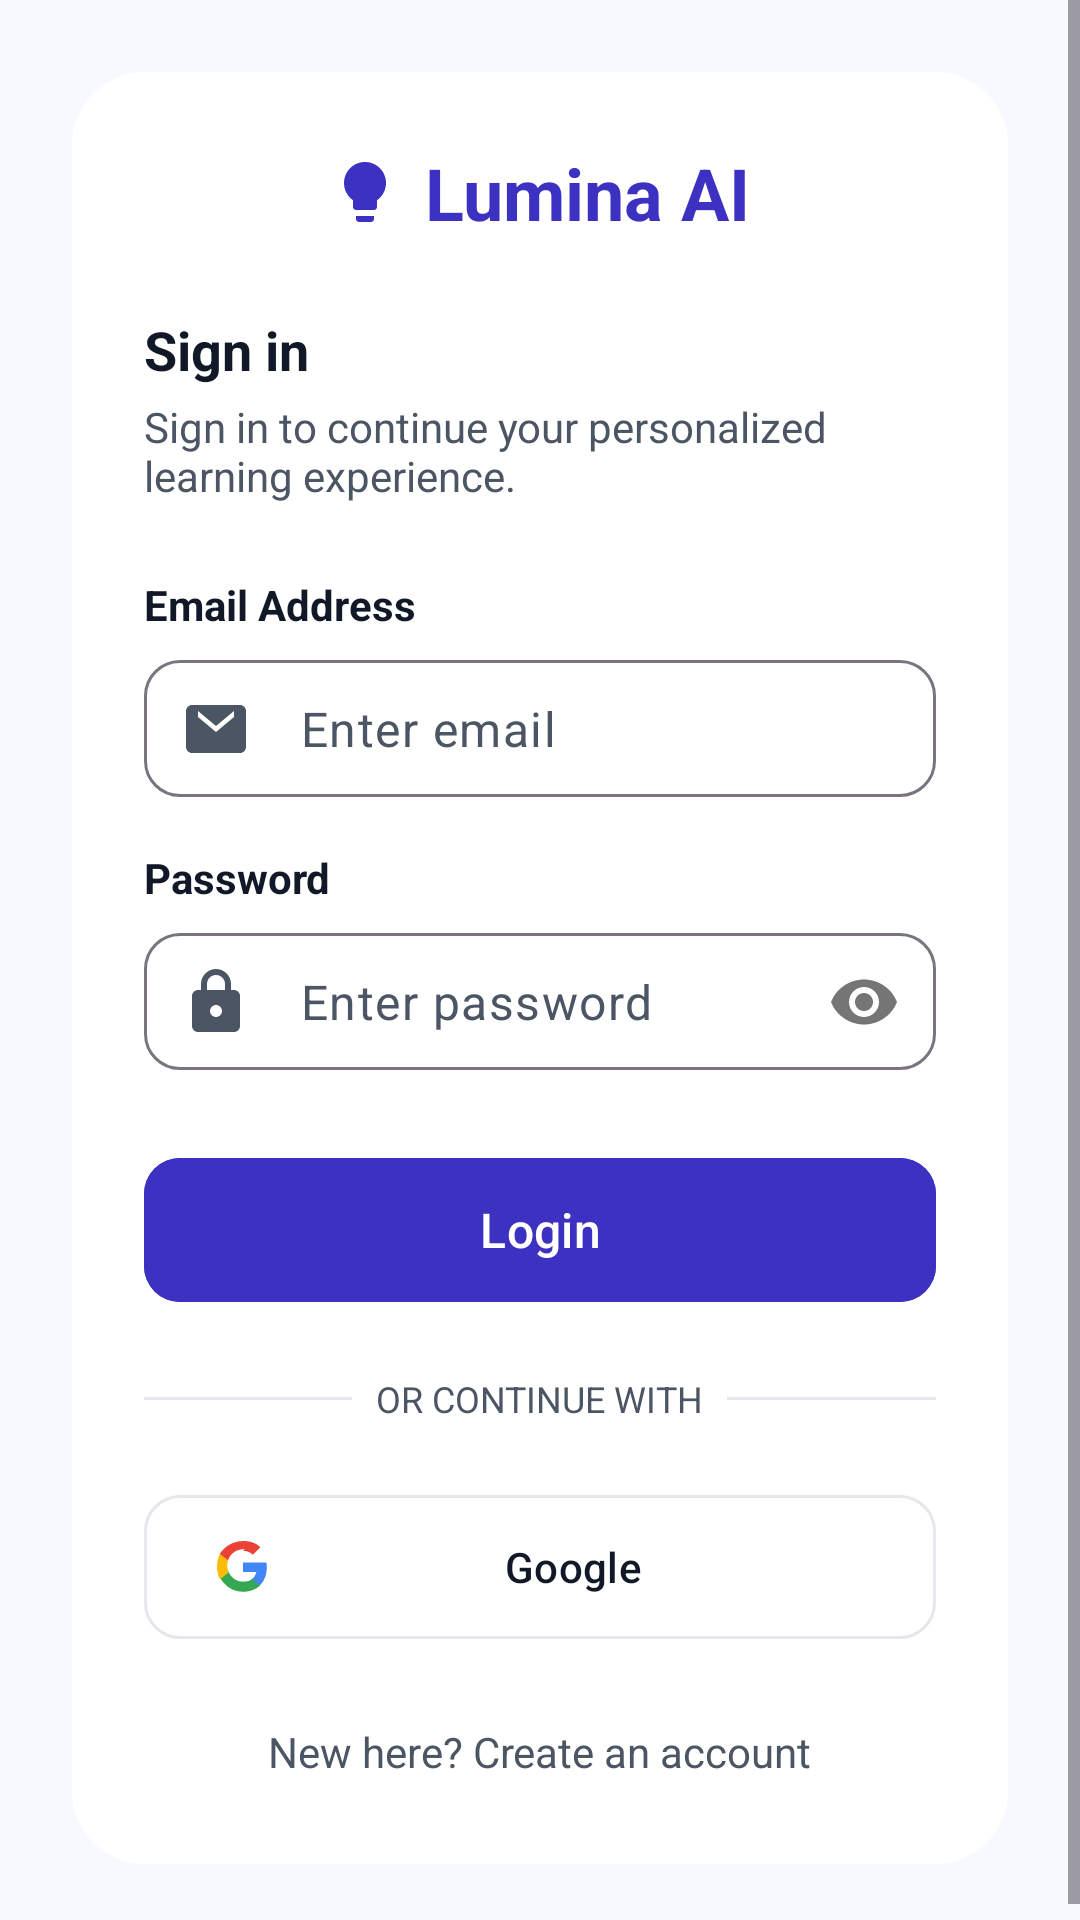

Icons on this 1080×1920 Android screen, each with the point to tap as [x,y]:
lightbulb: [365,192]
